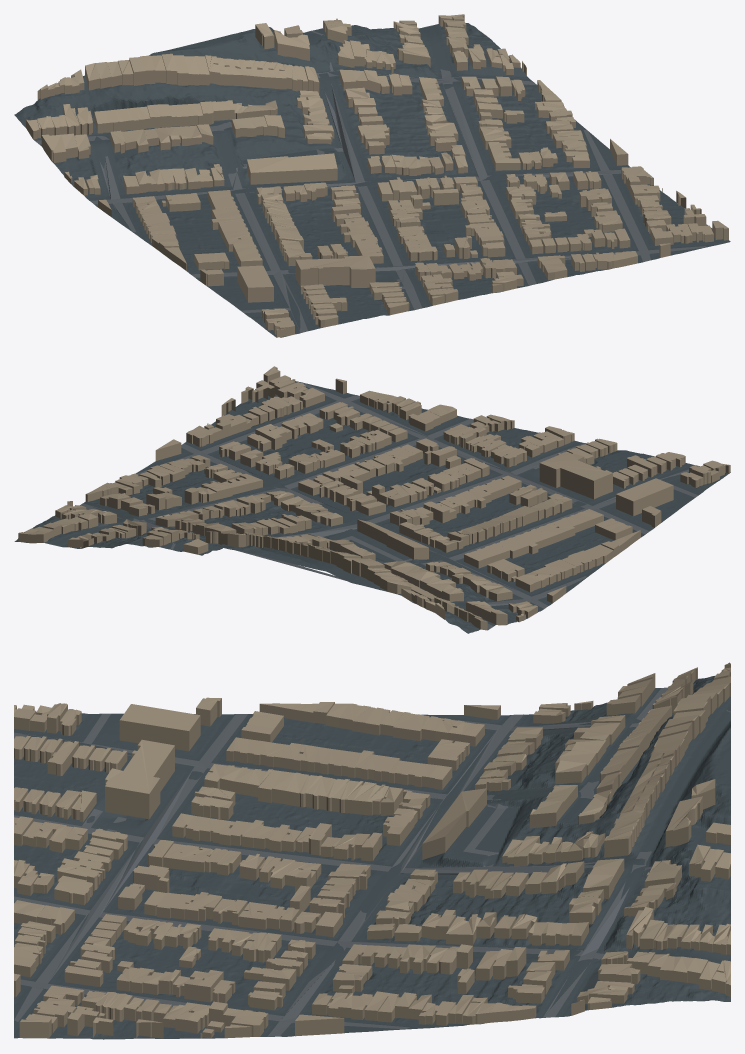
The model's file is epsg26910-1438-10873.lod0.glb.
3 views of the same model, one above another, from view 1: azimuth 30°, elevation 25°; view 2: azimuth 150°, elevation 25°; view 3: azimuth 270°, elevation 25° (orthographic). The views are drawn at different scales.
Parts seen in each view (by area): view 1: epsg26910-1438-10873-lod0; view 2: epsg26910-1438-10873-lod0; view 3: epsg26910-1438-10873-lod0.
Part boxes in pixels (box(x1,y1,x2,y2)): epsg26910-1438-10873-lod0: box(14, 14, 730, 337); epsg26910-1438-10873-lod0: box(14, 366, 730, 633); epsg26910-1438-10873-lod0: box(14, 662, 730, 1039).
Bounding box in the file's own units: 384 × 67.72 × 384.
